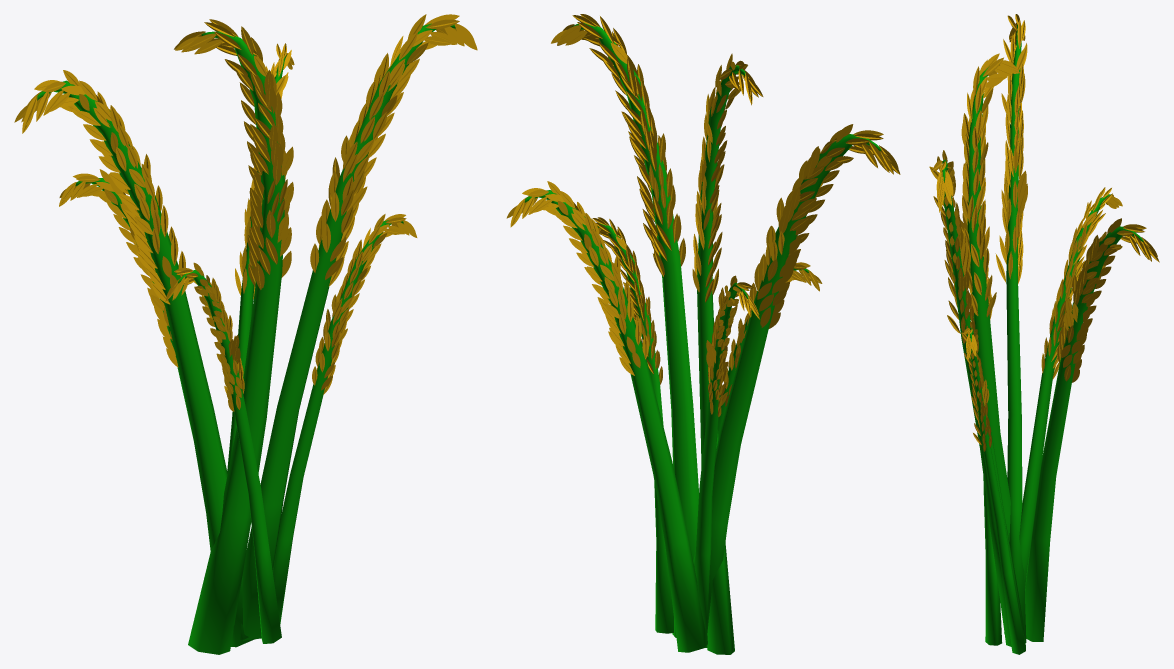
File: BachSrov.dae
The picture shows the model from 3 angles, left to right: view 1: azimuth 30°, elevation 25°; view 2: azimuth 150°, elevation 25°; view 3: azimuth 270°, elevation 25°; orthographic projection. The views are drawn at different scales.
Visible parts, largest first — view 1: KourSrov1 (×6); view 2: KourSrov1 (×6); view 3: KourSrov1 (×7).
Part boxes in pixels (x1,y1,x2,y2): KourSrov1 (×6): [37, 23, 455, 654]; KourSrov1 (×6): [524, 23, 881, 654]; KourSrov1 (×7): [942, 24, 1143, 654].
Bounding box in the file's own units: 6.84 × 3.68 × 10.06.
